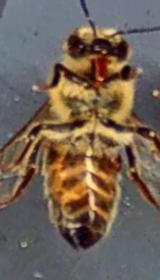varroa_mite: (96, 143, 128, 178)
